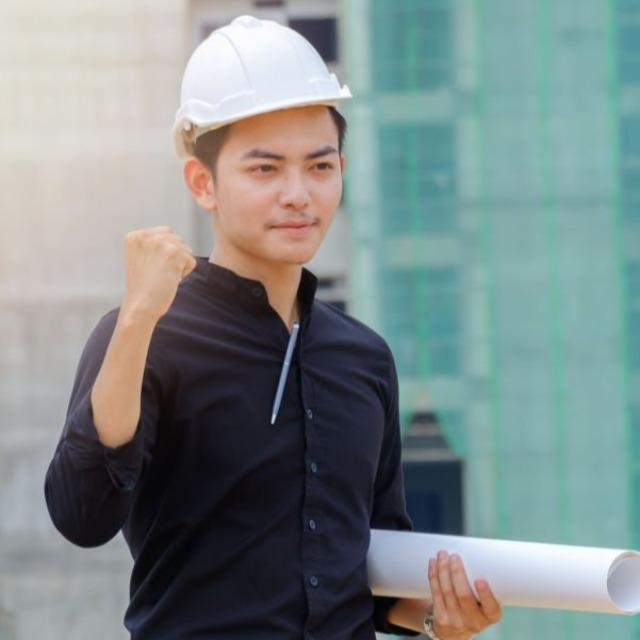Con_Casco: (169, 12, 355, 268)
Sin_Chaleco: (87, 275, 401, 638)
